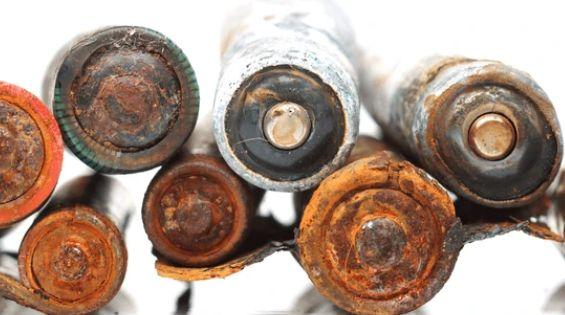battery: (373, 55, 561, 209), (210, 3, 362, 191), (294, 152, 463, 311), (50, 23, 202, 175), (141, 150, 267, 267), (15, 203, 130, 312)
